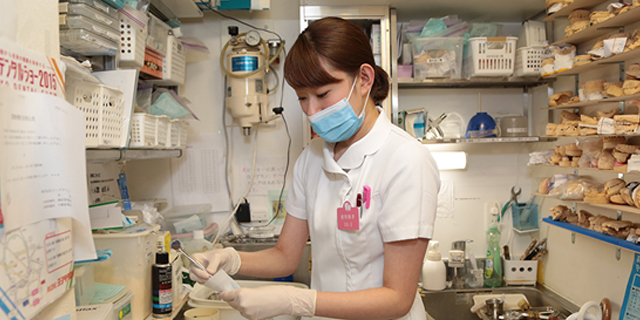mask: (307, 99, 366, 141)
